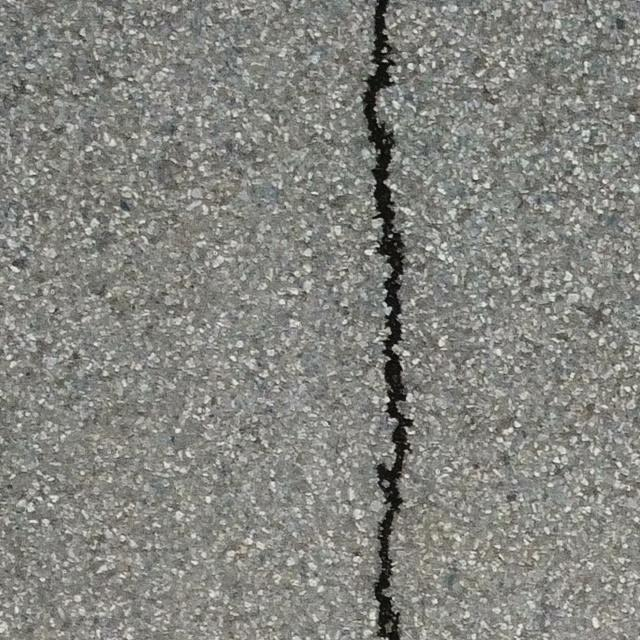LongitudinalCrack: (362, 2, 413, 640)
